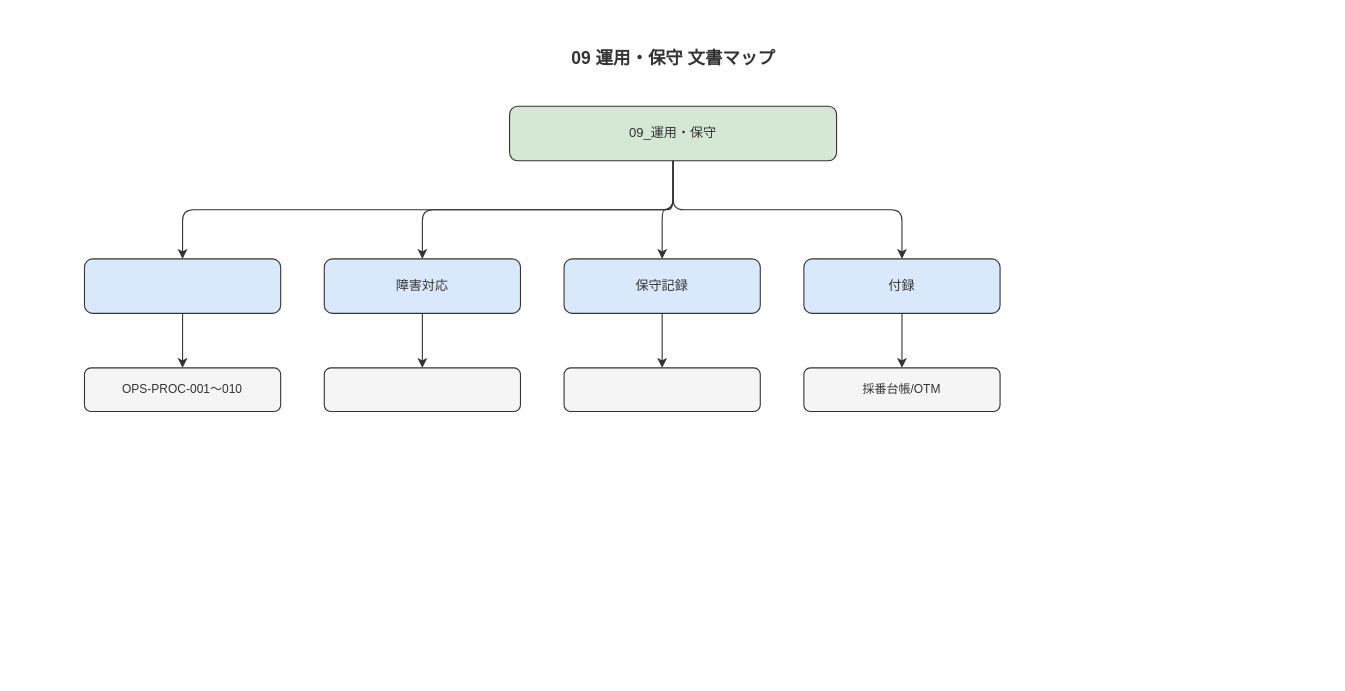
The diagram is 1345 pixels wide and 691 high, and some of its shapes have lost their labels. Here are the shapes that lost their labels. From the top down, the box of each, then its label:
(83, 258, 281, 313): 運用手順
(323, 367, 520, 411): P1〜P4/5フェーズ/RUN
(563, 367, 760, 411): IPA 4.2.2.a〜f
